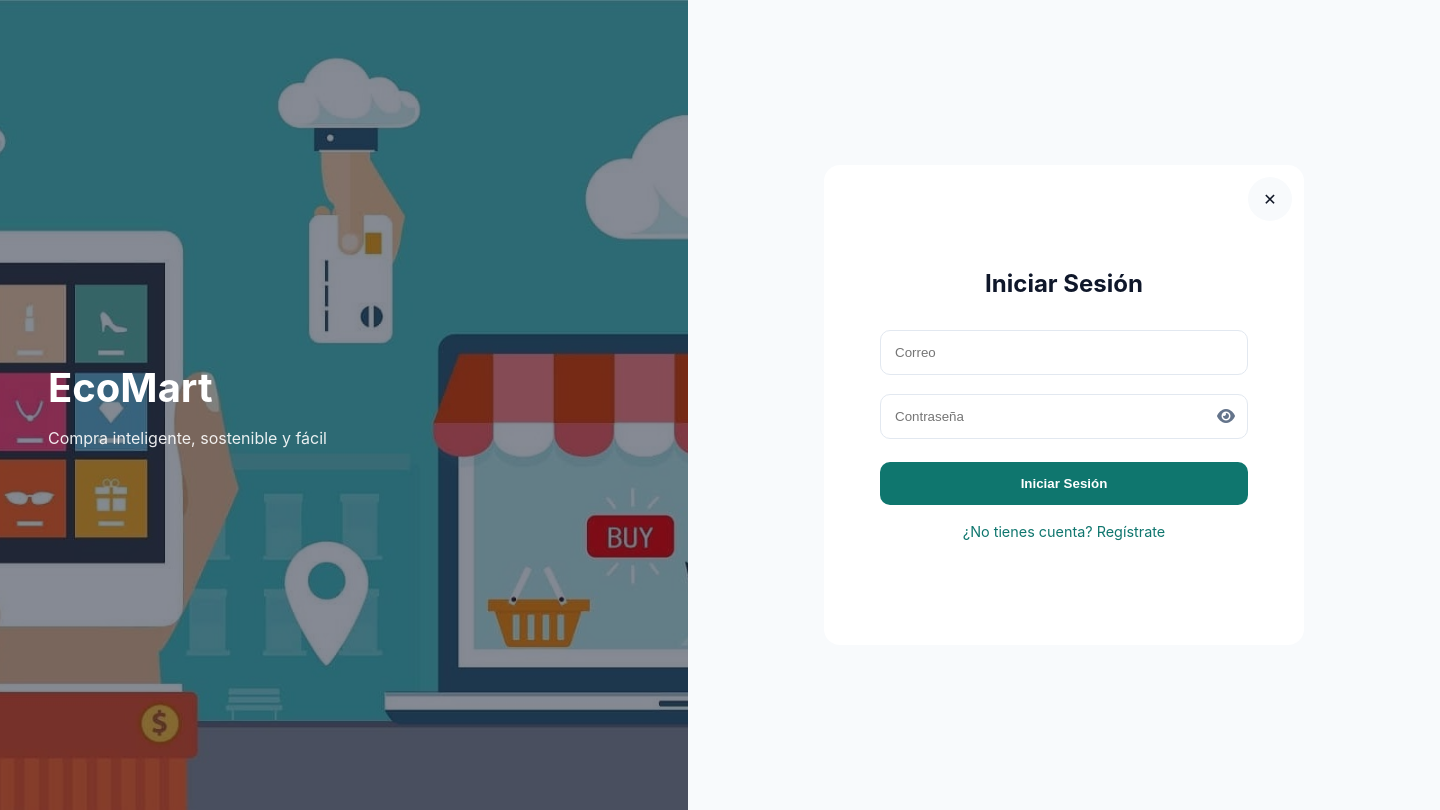
it: Login Page › Negative Testing - Errores en login › muestra mensaje de error cuando login falla
Type "juan@mail.com" into the field with placeholder "Correo" at (1064, 352), box top-left (880, 330), bottom-right (1248, 375)
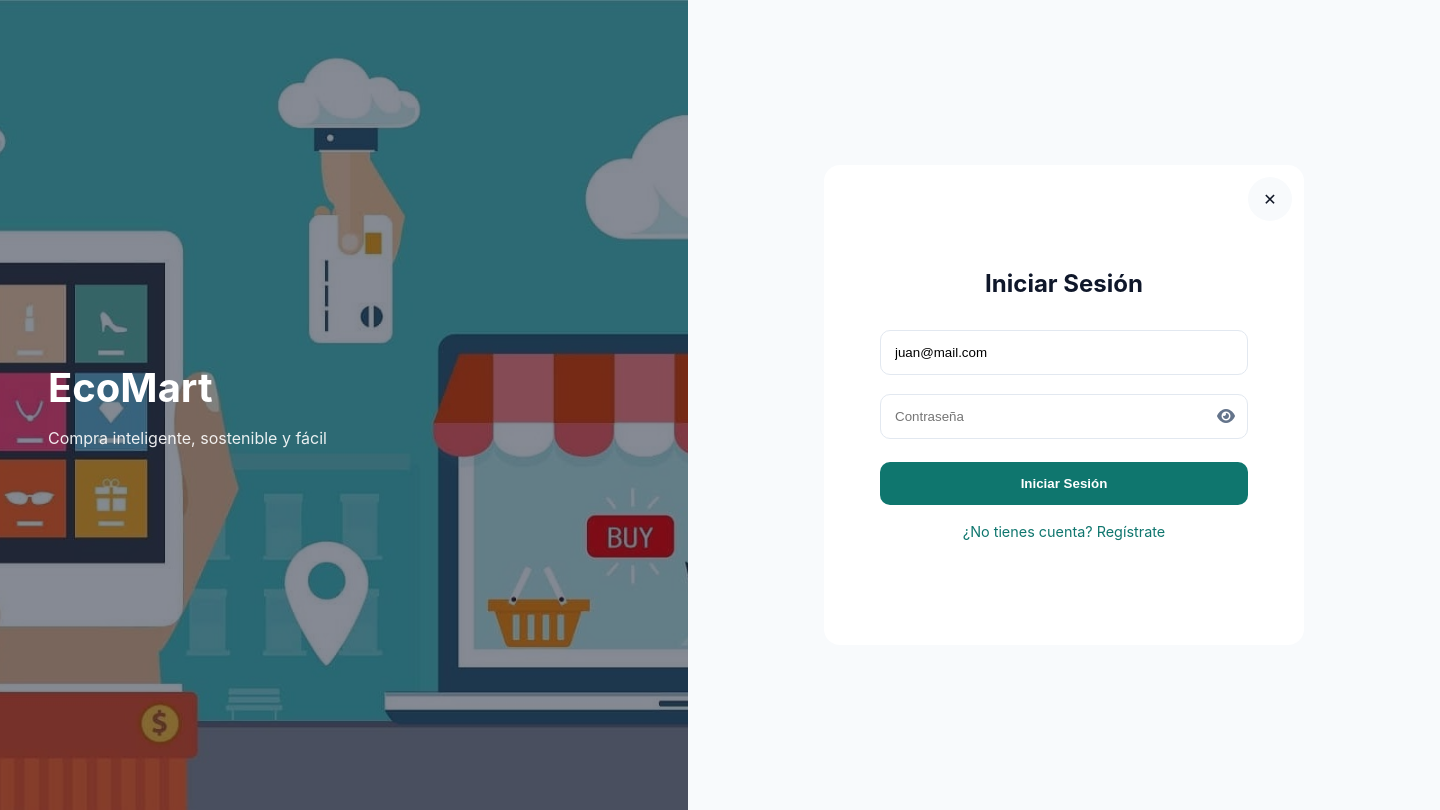
Type "wrong" into the password field with placeholder "Contraseña" at (1064, 417), box top-left (880, 394), bottom-right (1248, 439)
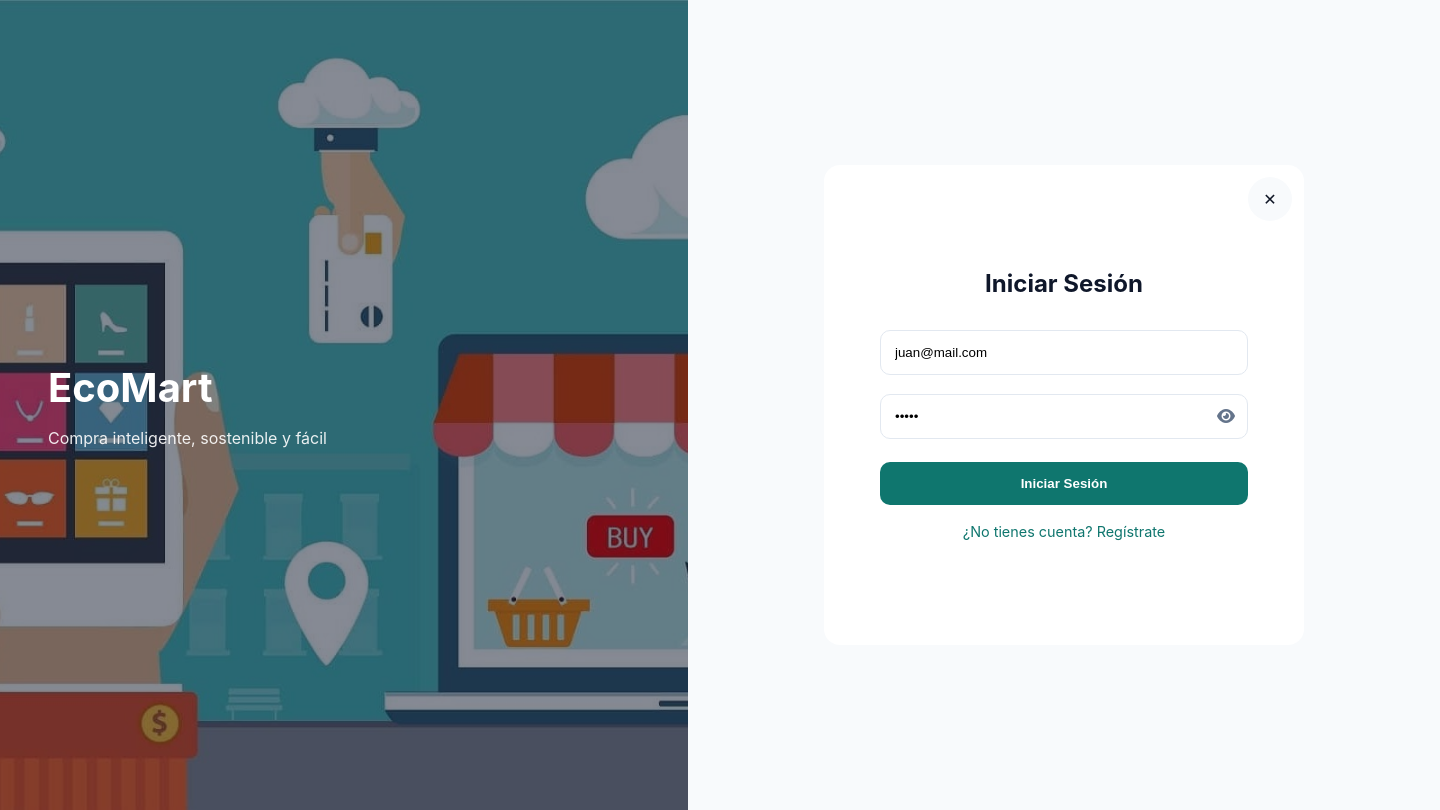
Click the button "Iniciar Sesión" at (1064, 484), box top-left (880, 462), bottom-right (1248, 505)
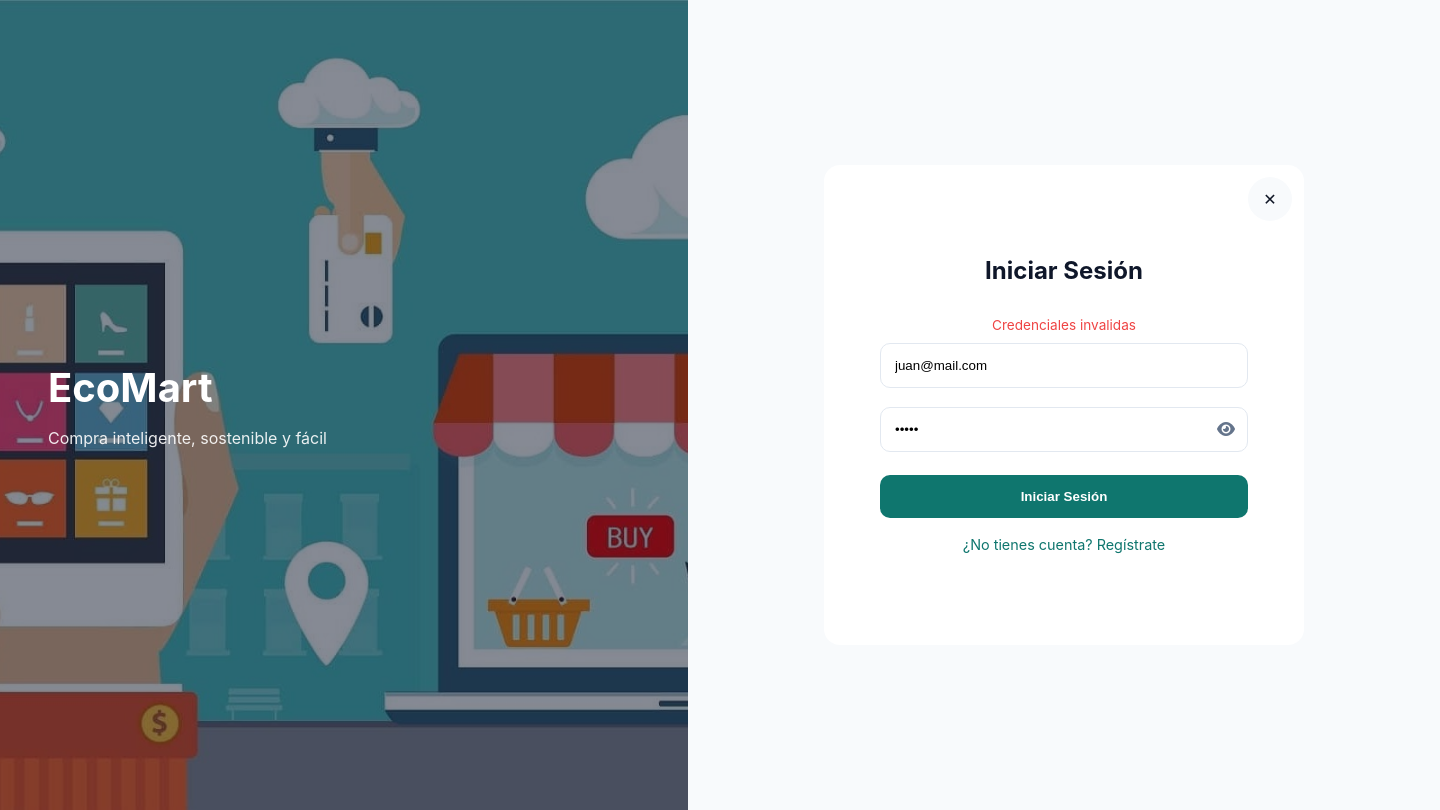
Now the text "Credenciales invalidas" is shown, box top-left (992, 317), bottom-right (1136, 333)
